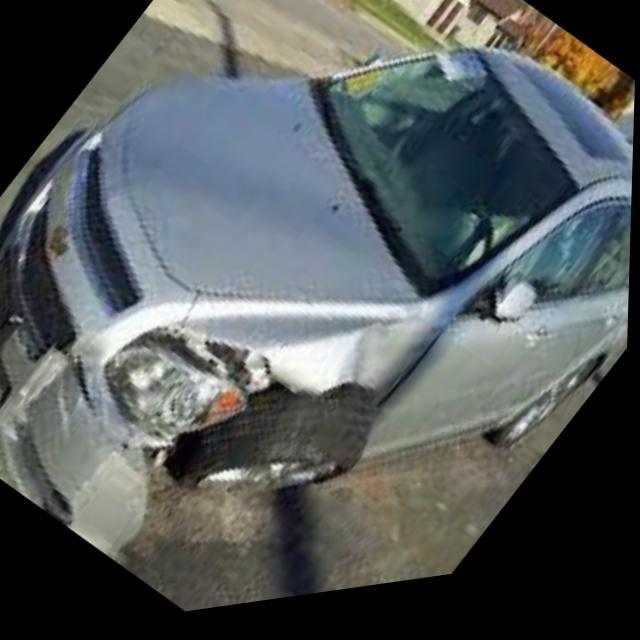dislocated part: (0, 318, 457, 567)
